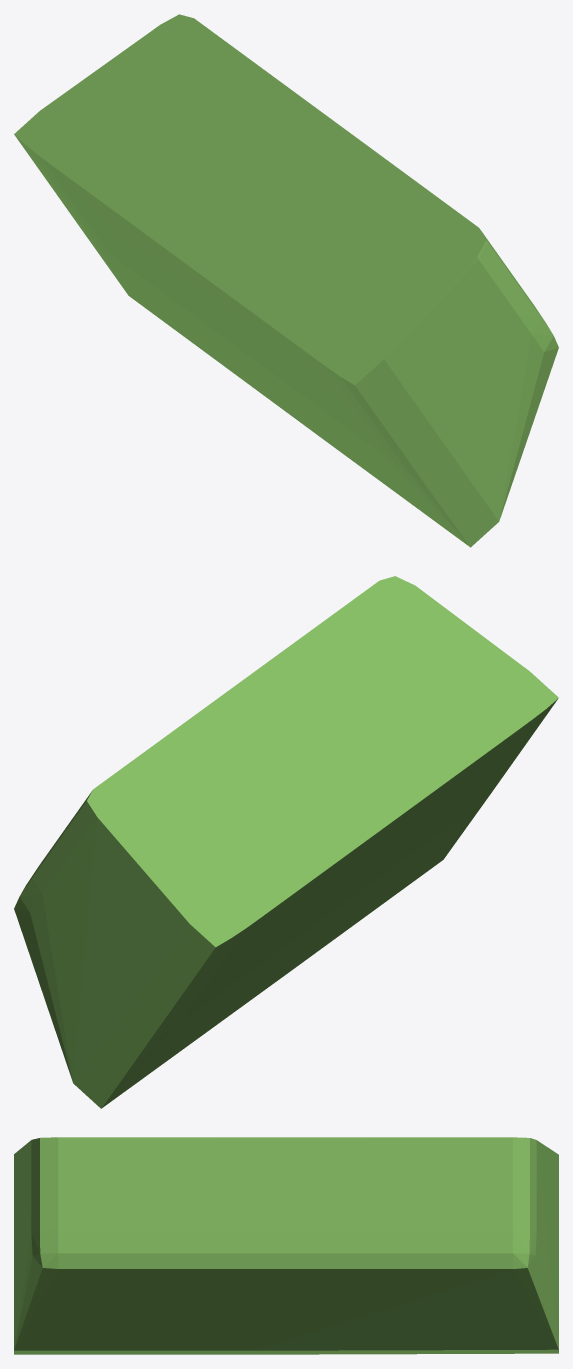
The model's file is converted_Downdraft_Assy_collision_80_83bc61ff.obj.
The picture shows the model from 3 angles, top to bottom: view 1: azimuth 30°, elevation 25°; view 2: azimuth 150°, elevation 25°; view 3: azimuth 270°, elevation 25°; orthographic projection. The views are drawn at different scales.
Bounding box in the file's own units: 0.1376 × 0.1693 × 0.361.
